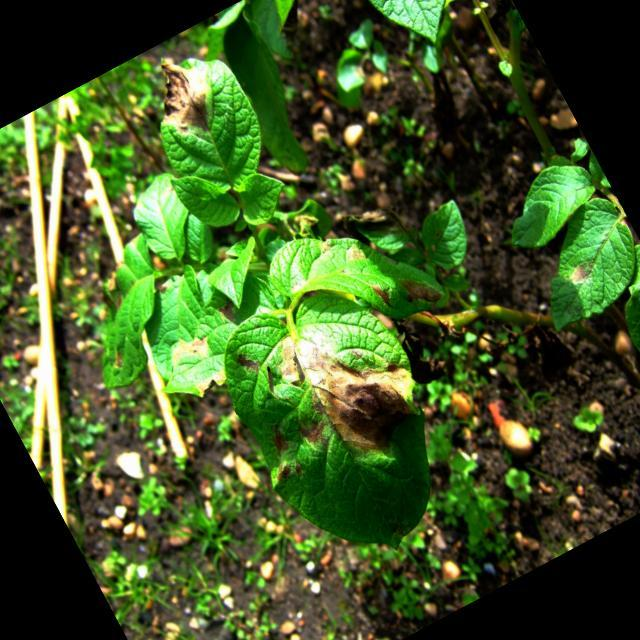Tomato late blight leaf: (190, 262, 478, 578), (124, 33, 286, 216), (509, 191, 640, 336)
